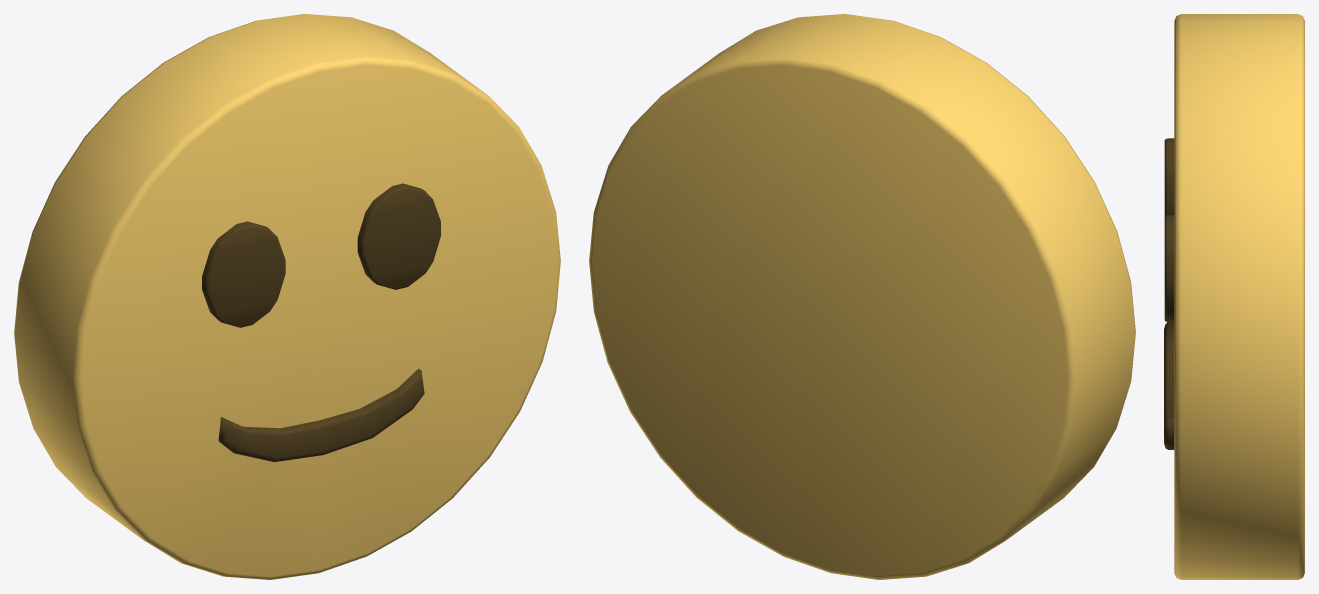
File: smile.fbx
3 renders of one model, left to right at view 1: azimuth 30°, elevation 25°; view 2: azimuth 150°, elevation 25°; view 3: azimuth 270°, elevation 25°, orthographic.
Parts seen in each view (by area): view 1: Cylinder.001; view 2: Cylinder.001; view 3: Cylinder.001.
Part boxes in pixels (box(x1,y1,x2,y2)): Cylinder.001: box(14, 14, 560, 579); Cylinder.001: box(589, 14, 1135, 579); Cylinder.001: box(1164, 14, 1304, 579).
Size of the model in its own units: 86.86 by 86.86 by 21.6.
